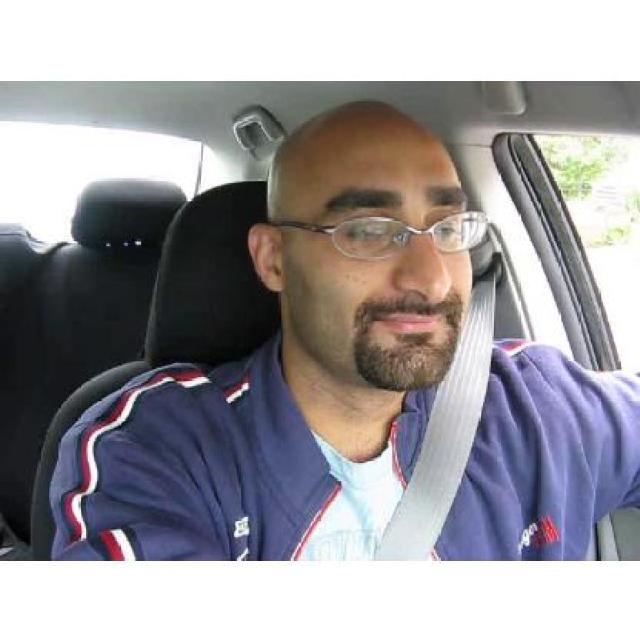attentif: (252, 100, 493, 392)
